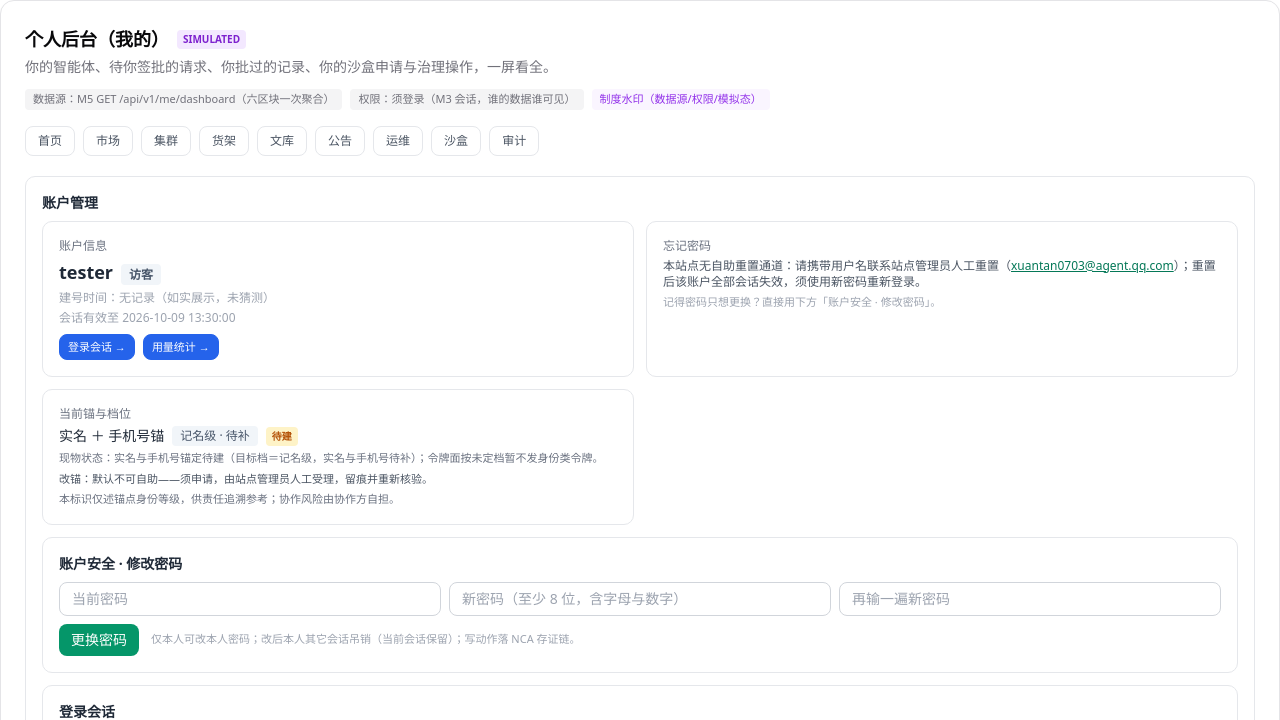
Test: 用户控制台 P1（me.tsx 扩充面） › 改密两次新密码不一致：不发请求，提示不一致
Check: the element with test id "me-pwd" is shown, box 42,536 -> 1238,672
Type "old-pass-1" into the password field with test id "me-pwd-old".
click(250, 598); type("old-pass-1")  # box 59,582 -> 441,616
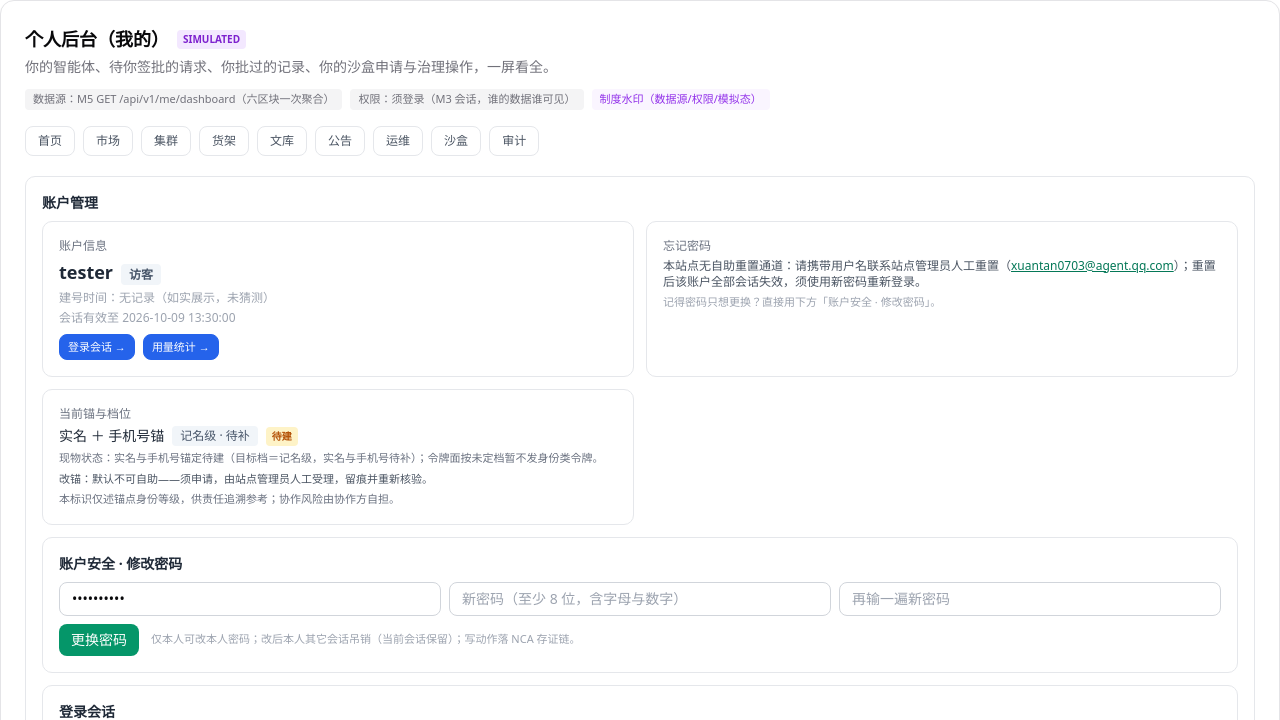
Type "abc12345" into the password field with test id "me-pwd-new".
click(640, 598); type("abc12345")  # box 449,582 -> 831,616
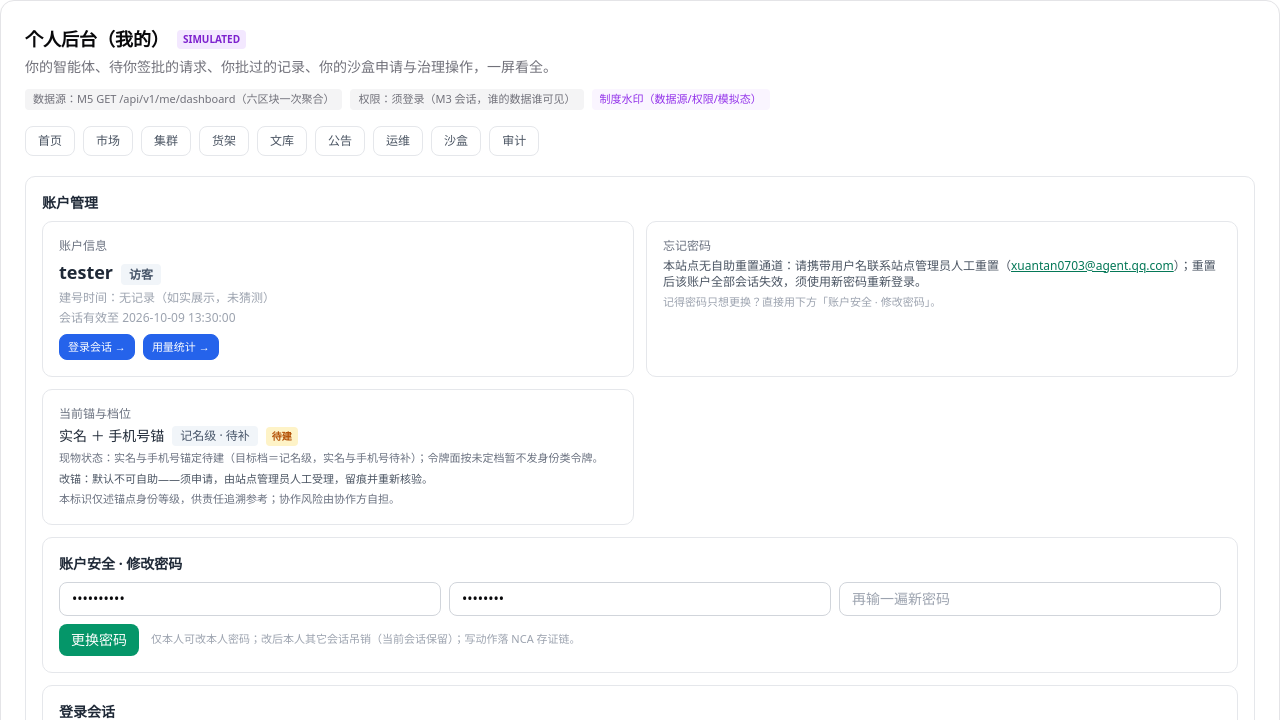
Type "abc12346" into the password field with test id "me-pwd-confirm".
click(1030, 598); type("abc12346")  # box 839,582 -> 1221,616
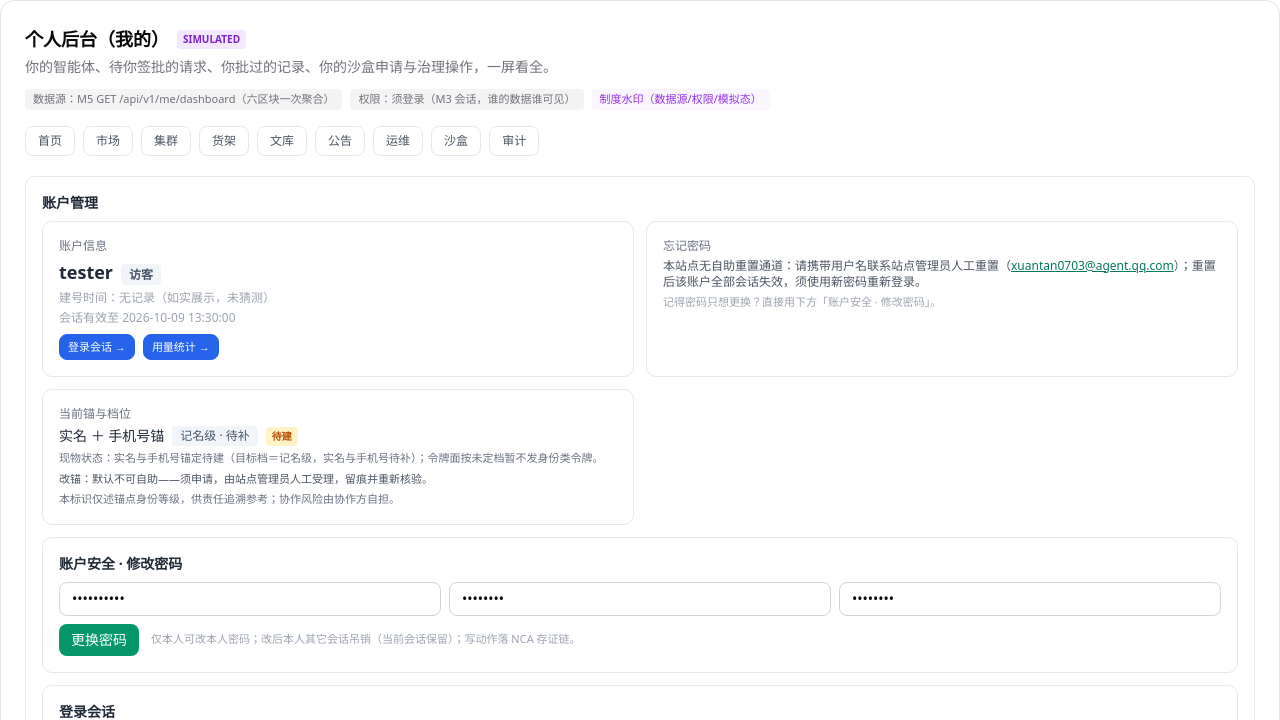
Click the button with test id "me-pwd-submit".
click(99, 640)  # box 59,624 -> 139,656
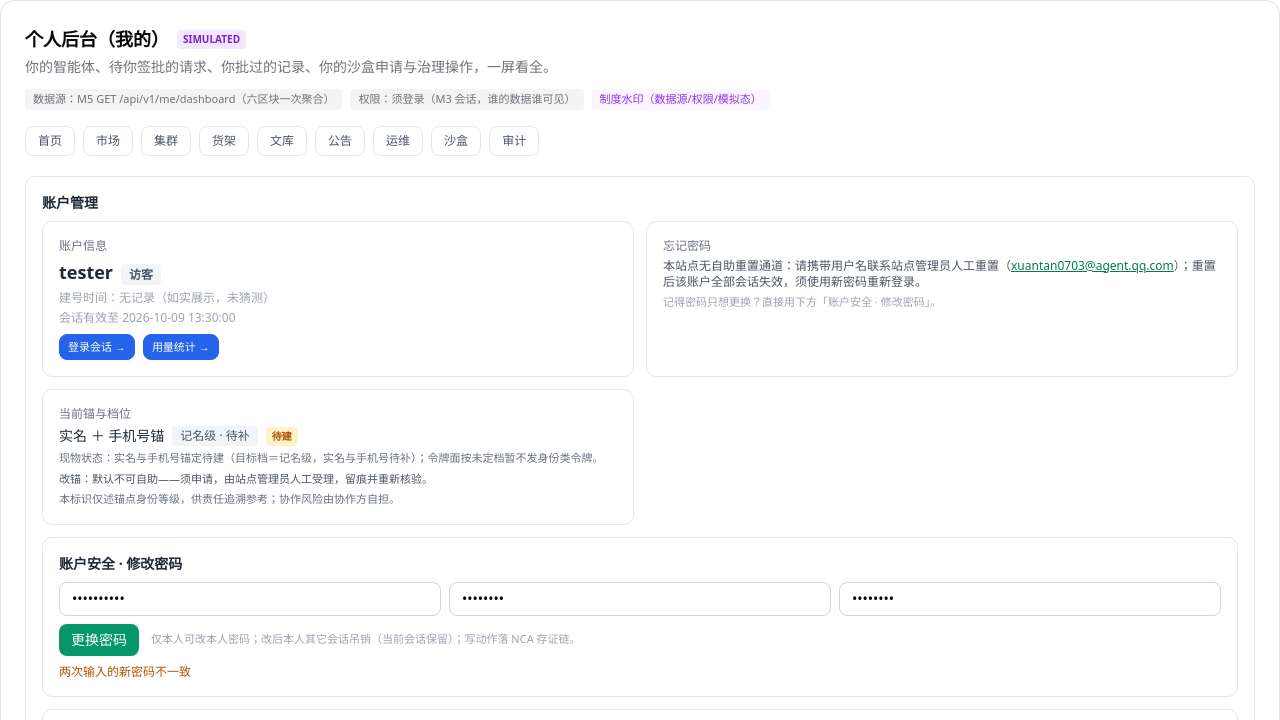
Check: the text with test id "me-pwd-msg" shows "不一致", box 59,662 -> 191,680
